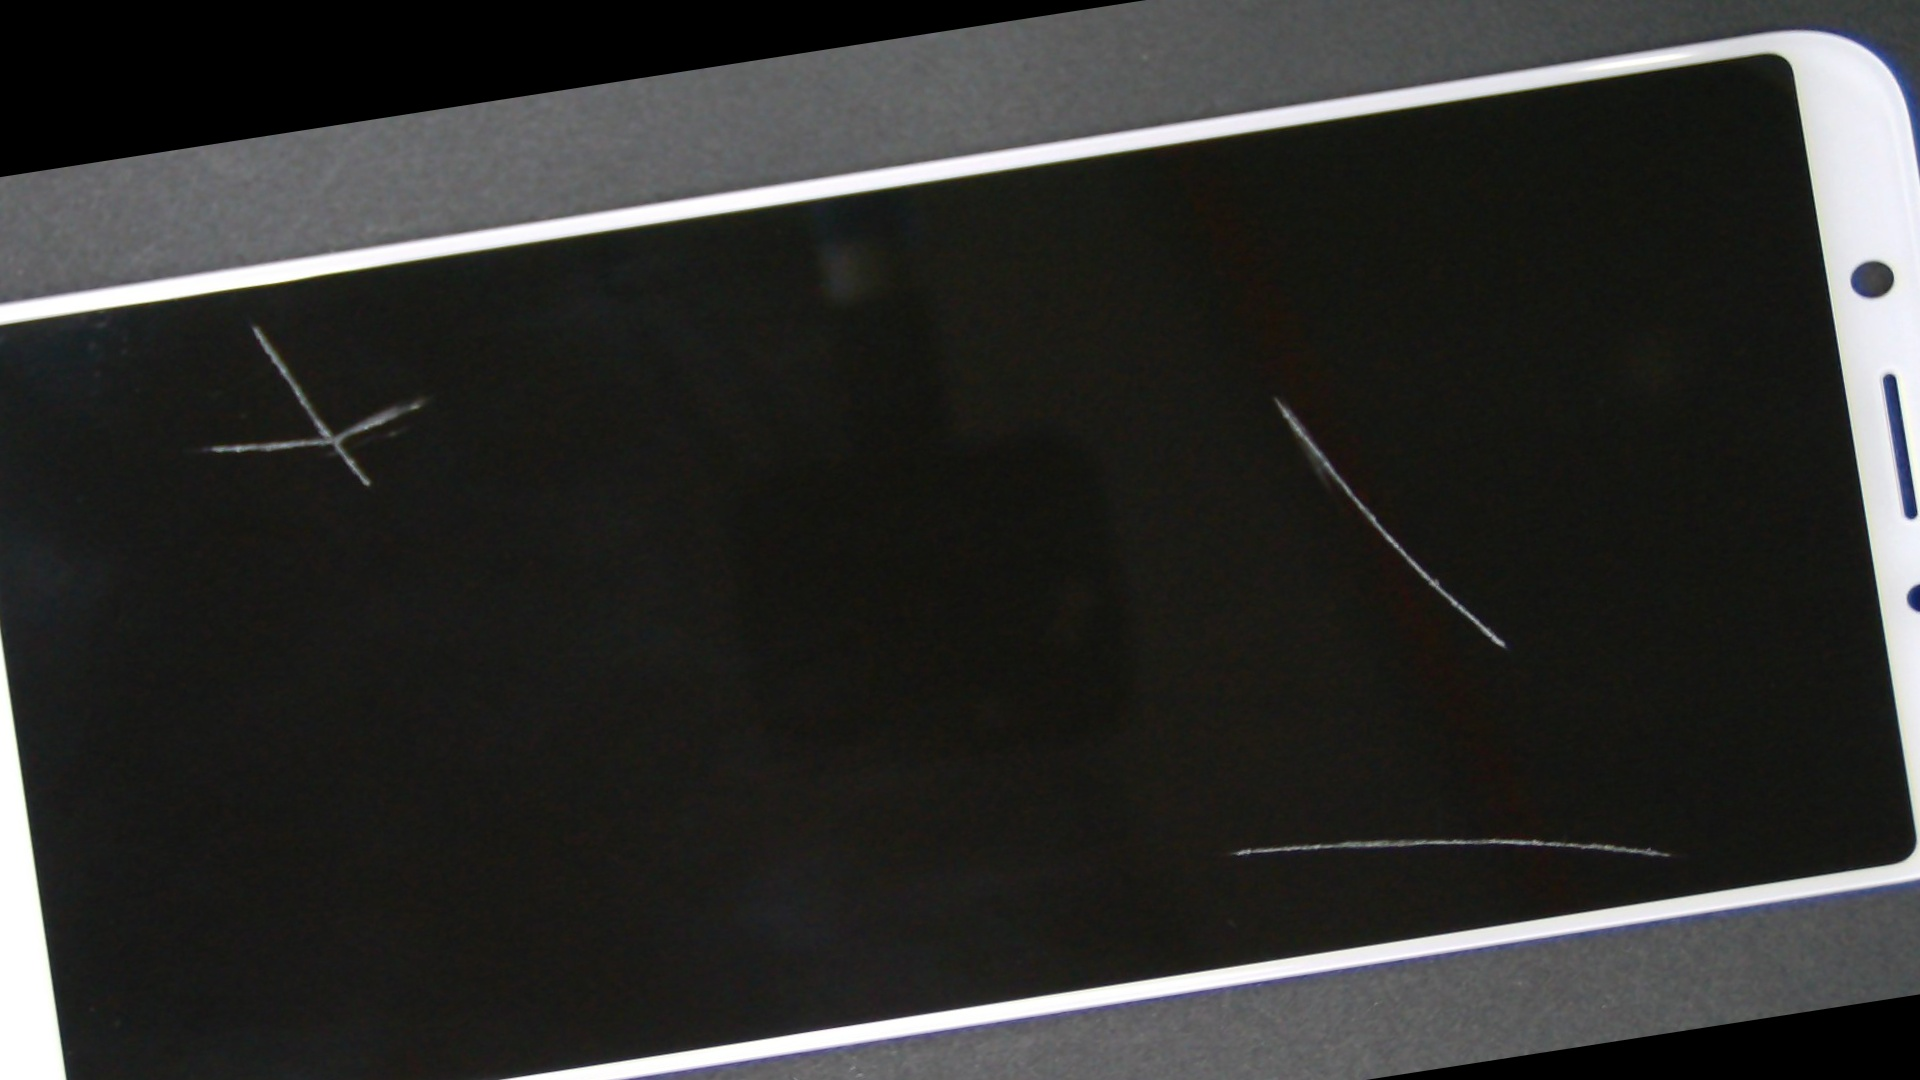oil: (492, 319, 1920, 1080), (505, 76, 1920, 716), (0, 195, 509, 454)
